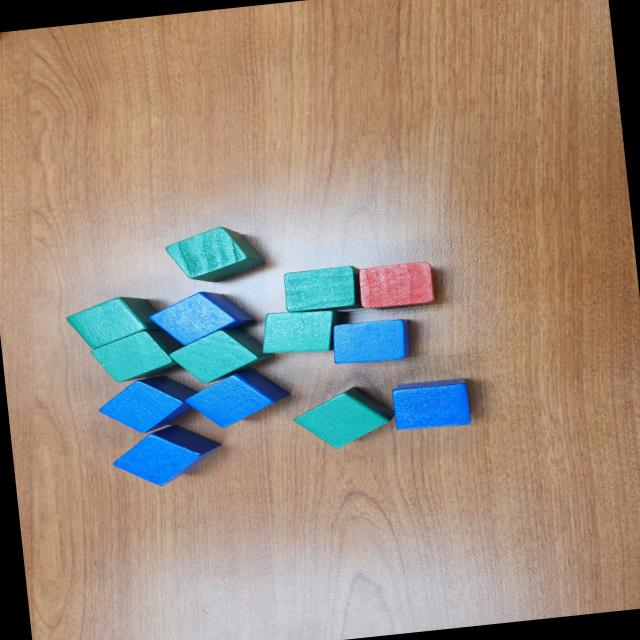blue: (108, 420, 226, 491), (183, 362, 292, 431), (95, 371, 204, 438), (144, 286, 258, 350), (391, 377, 474, 433), (328, 315, 416, 367)
green: (290, 382, 398, 453), (158, 221, 267, 287), (166, 324, 278, 386), (64, 292, 164, 351), (88, 326, 184, 385), (256, 304, 353, 358), (280, 263, 364, 315)
red: (355, 260, 439, 312)
